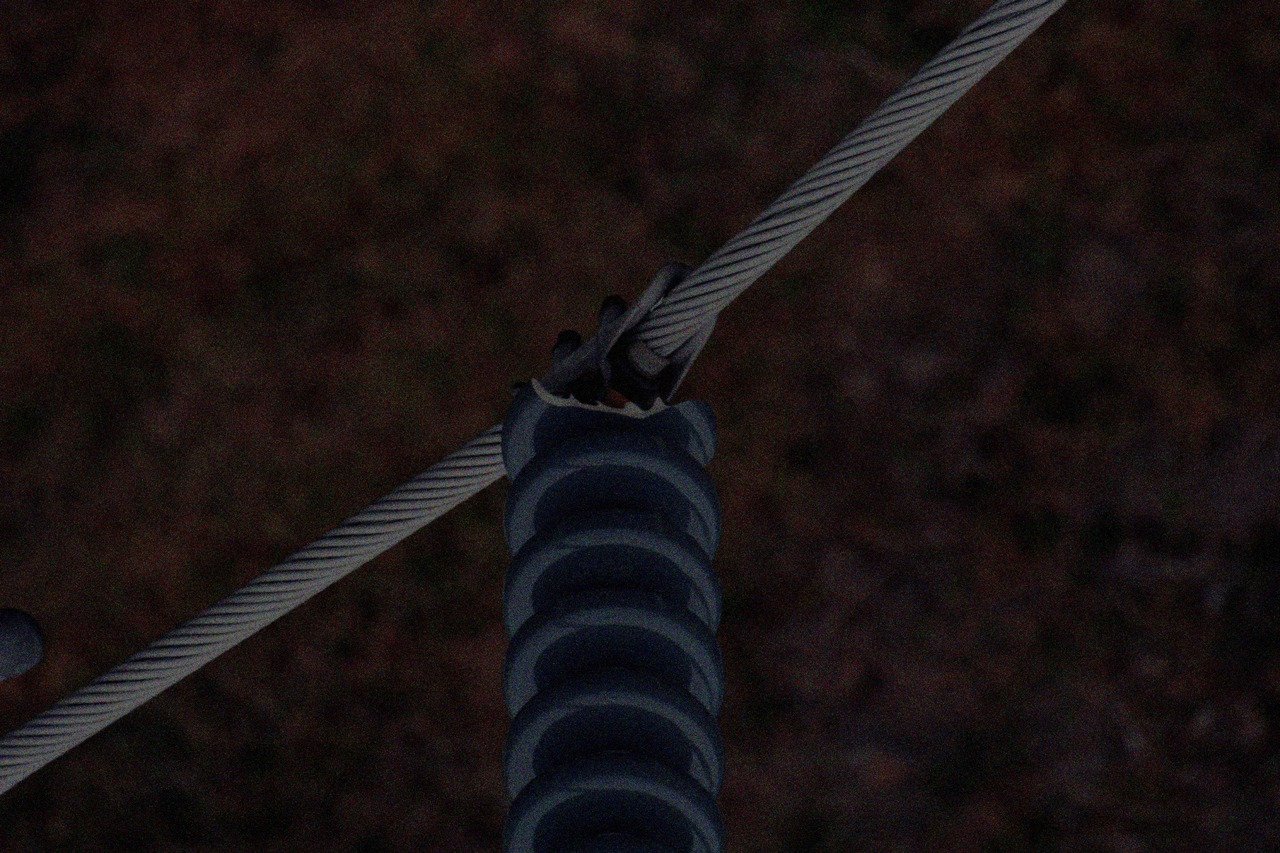Broken: (501, 375, 721, 482)
No issues: (501, 583, 726, 718), (500, 426, 725, 561), (501, 502, 726, 637), (501, 663, 726, 798), (499, 749, 729, 853)
String: (499, 375, 734, 853)
